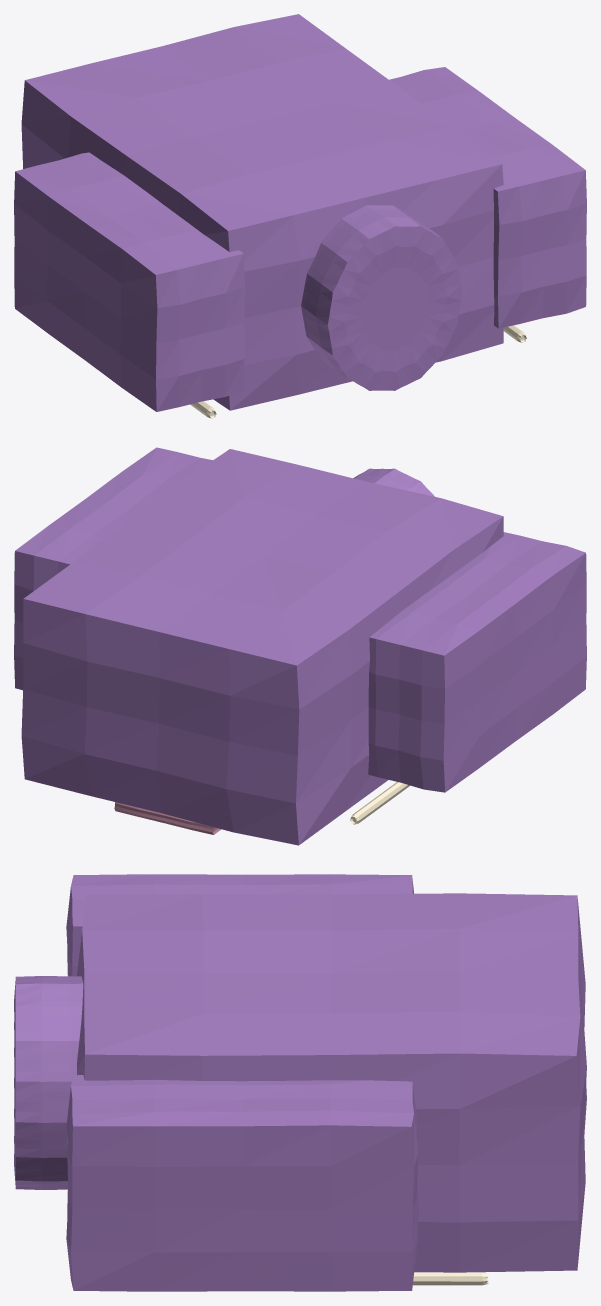
Rendered from sudadera.glb.
The picture shows the model from 3 angles, top to bottom: view 1: azimuth 30°, elevation 25°; view 2: azimuth 150°, elevation 25°; view 3: azimuth 270°, elevation 25°; orthographic projection. The views are drawn at different scales.
Visible parts, largest first — view 1: sudadera_00, sudadera_02, sudadera_01, sudadera_03; view 2: sudadera_00, sudadera_02, sudadera_03, sudadera_01, sudadera_04, Detalle_01; view 3: sudadera_00, sudadera_03, sudadera_01, sudadera_02, Detalle_02.
Part boxes in pixels (x1,y1,x2,y2): sudadera_00: (21, 14, 503, 410); sudadera_02: (14, 152, 244, 411); sudadera_01: (301, 205, 462, 390); sudadera_03: (389, 67, 586, 328); sudadera_00: (21, 449, 503, 845); sudadera_02: (368, 532, 586, 792); sudadera_03: (14, 447, 212, 690); sudadera_01: (353, 468, 434, 496); sudadera_04: (114, 802, 220, 834); Detalle_01: (350, 782, 410, 824); sudadera_00: (77, 893, 586, 1272); sudadera_03: (66, 1075, 418, 1291); sudadera_01: (14, 976, 83, 1189); sudadera_02: (66, 874, 413, 976); Detalle_02: (413, 1272, 488, 1285).
Size of the model in its own units: 1.17 by 0.5072 by 1.12.
